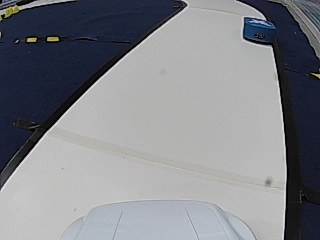prop: (243, 16, 277, 45)
